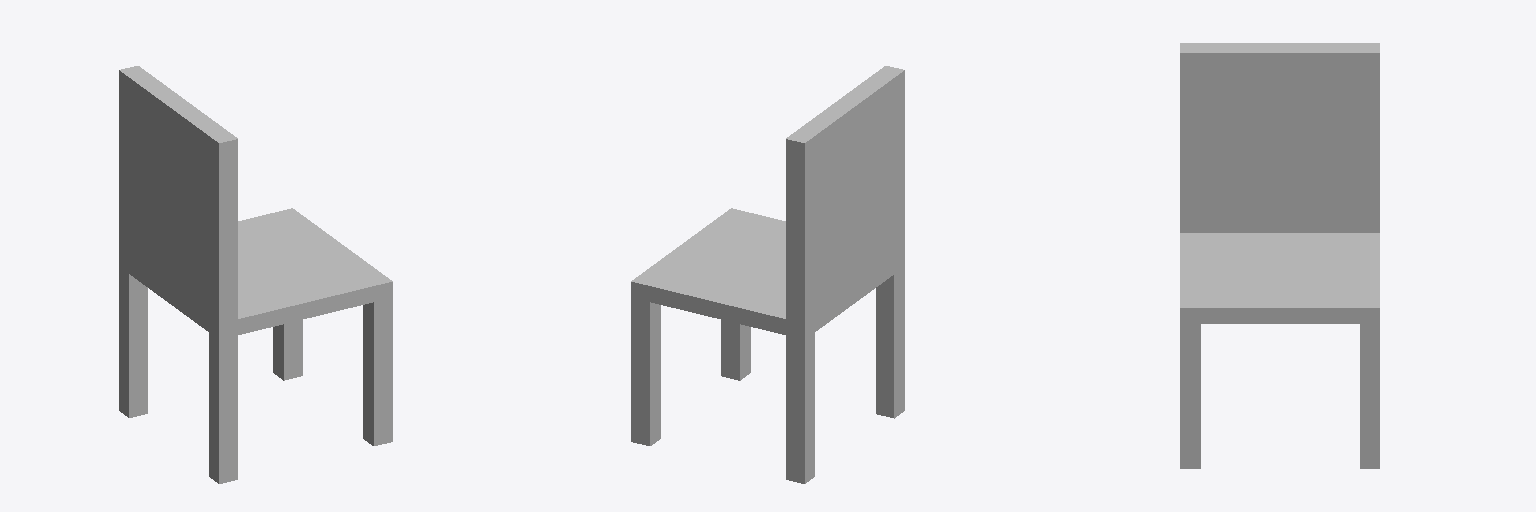
File: Chair.obj
3 renders of one model, left to right at view 1: azimuth 30°, elevation 25°; view 2: azimuth 150°, elevation 25°; view 3: azimuth 270°, elevation 25°, orthographic.
Parts seen in each view (by area): view 1: Cube; view 2: Cube; view 3: Cube.
Part boxes in pixels (left/top/right/bottom): Cube: left=119, top=66, right=392, bottom=483; Cube: left=631, top=66, right=904, bottom=483; Cube: left=1180, top=43, right=1379, bottom=468.
Bounding box in the file's own units: 12.74 × 23.89 × 12.74.